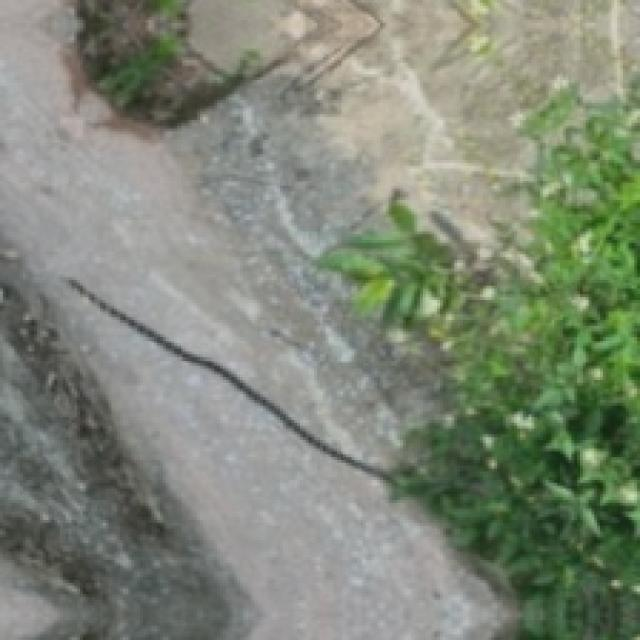king cobra: (66, 277, 389, 480)
